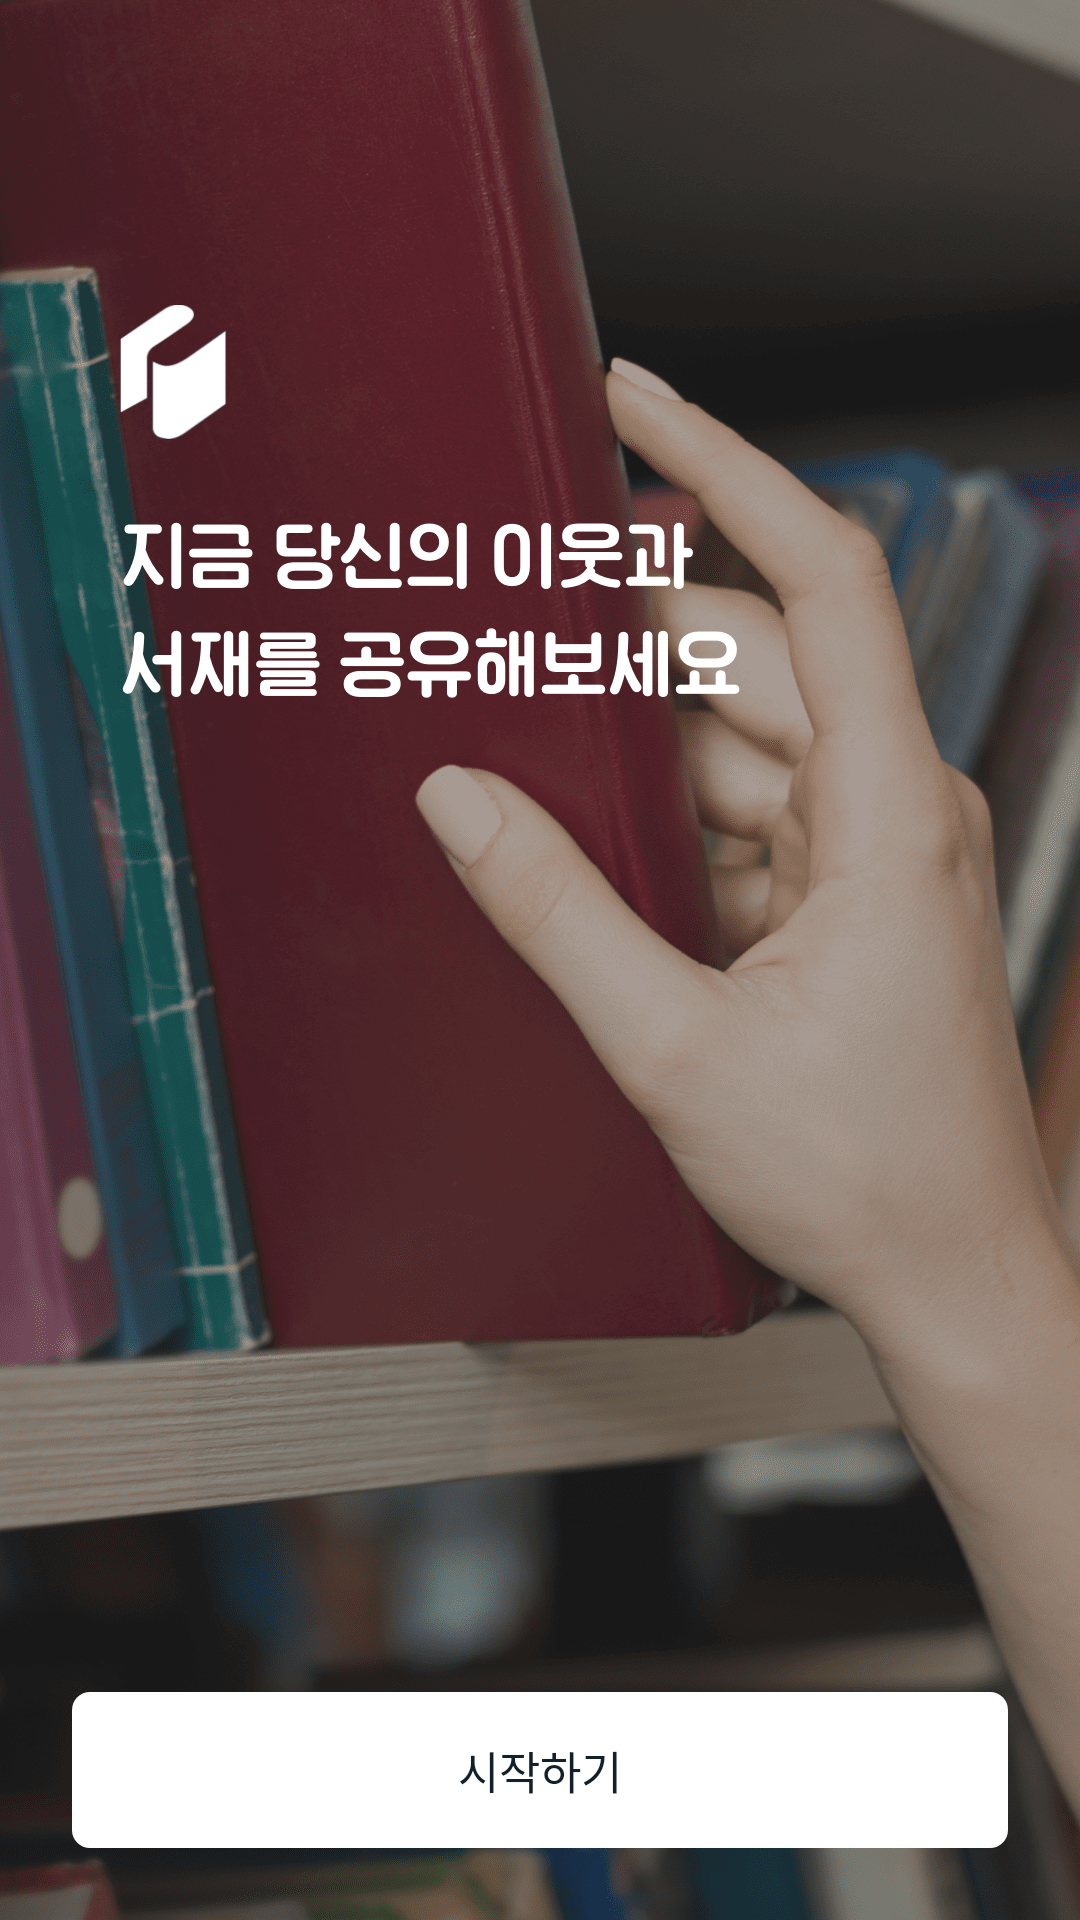

Locate icon controls on the screen. Image size 1080x1920, boxes as (x1, y1, x2, y2).
symbol: (120, 305, 226, 439)
